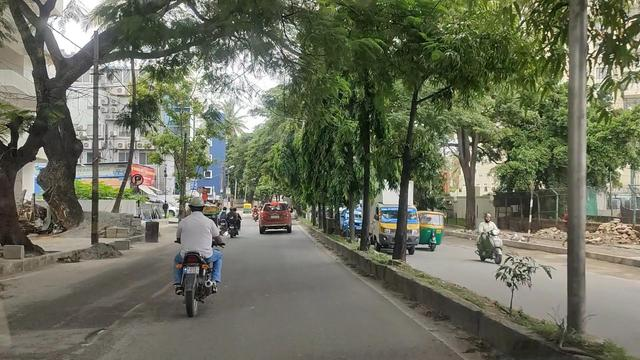LMV: (180, 201, 213, 309), (260, 203, 292, 231)
RoadDamages: (48, 322, 115, 356)
